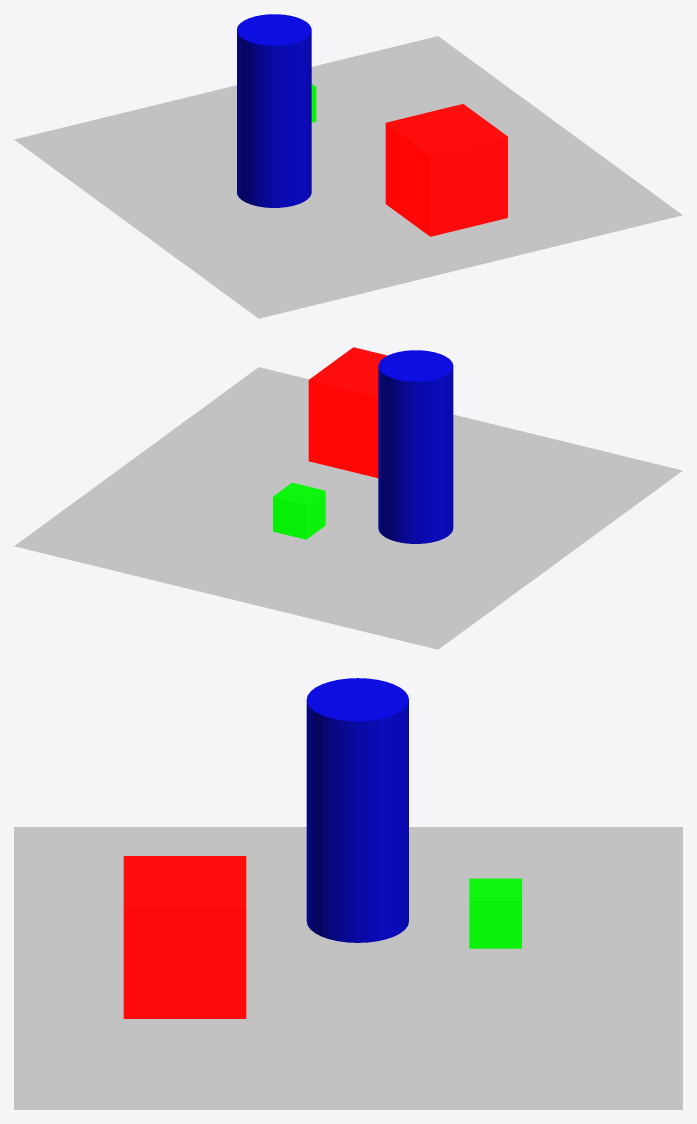
The model's file is lightFiledScene.gltf.
3 renders of one model, top to bottom at view 1: azimuth 30°, elevation 25°; view 2: azimuth 150°, elevation 25°; view 3: azimuth 270°, elevation 25°, orthographic. The views are drawn at different scales.
Parts seen in each view (by area): view 1: 平面, 柱体, 立方体.001; view 2: 平面, 柱体, 立方体.001, 立方体; view 3: 平面, 柱体, 立方体.001, 立方体.
Boxes of the visible parts, x1,y1,x2,y2 form: 平面: (14, 36, 682, 318); 柱体: (237, 14, 311, 207); 立方体.001: (385, 104, 507, 236); 平面: (14, 367, 682, 649); 柱体: (378, 350, 453, 543); 立方体.001: (308, 347, 387, 477); 立方体: (273, 482, 325, 539); 平面: (14, 827, 682, 1109); 柱体: (306, 678, 408, 942); 立方体.001: (123, 856, 246, 1018); 立方体: (469, 878, 521, 948).
Size of the model in its own units: 13.06 by 4.78 by 13.06.
